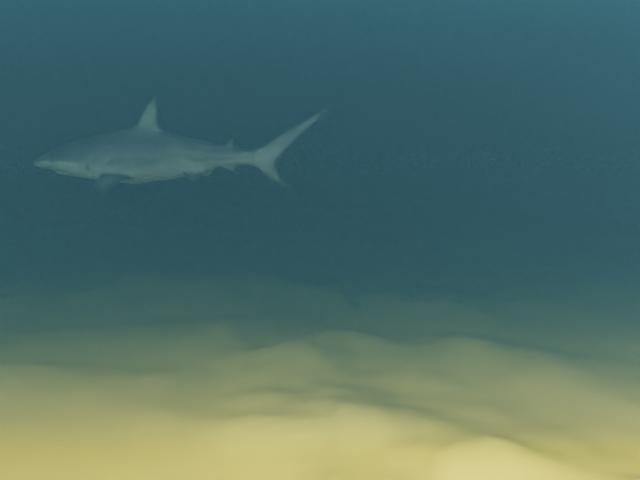Carribean Shark.001: (33, 97, 332, 195)
